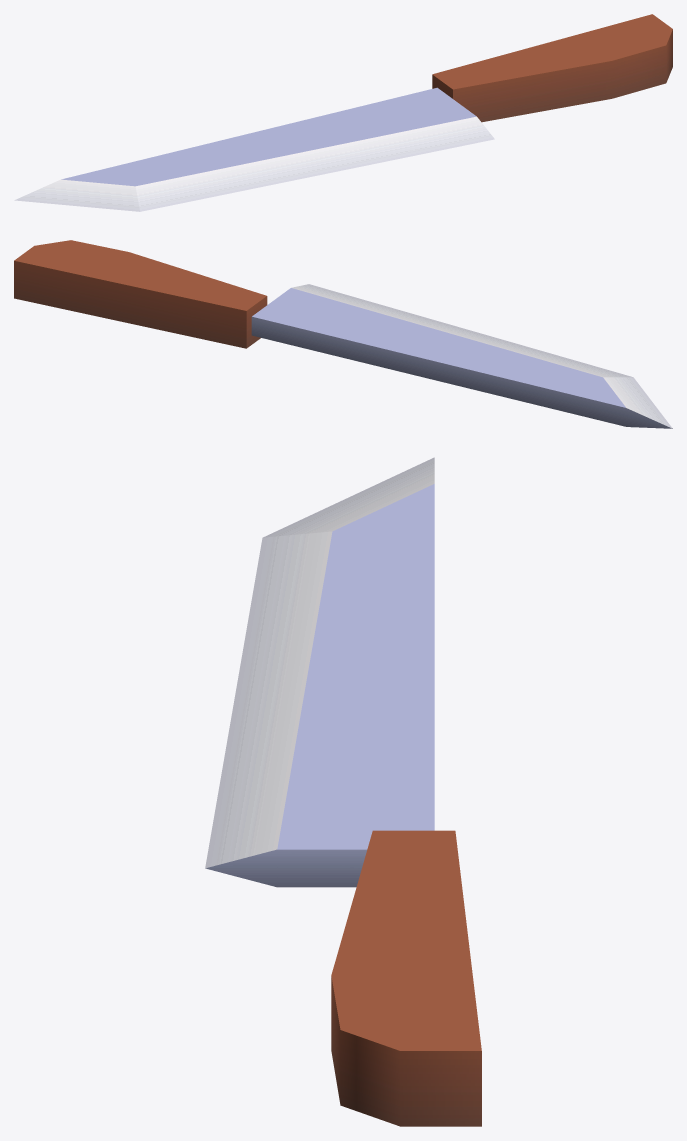
The model's file is cooking-knife.glb.
3 renders of one model, top to bottom at view 1: azimuth 30°, elevation 25°; view 2: azimuth 150°, elevation 25°; view 3: azimuth 270°, elevation 25°, orthographic. The views are drawn at different scales.
Visible parts, largest first — view 1: cooking-knife; view 2: cooking-knife; view 3: cooking-knife.
Part boxes in pixels (box(x1,y1,x2,y2)): cooking-knife: box(14, 14, 672, 211); cooking-knife: box(14, 240, 672, 428); cooking-knife: box(205, 457, 481, 1126).
Size of the model in its own units: 0.7162 by 0.04 by 0.1326.
1 material, 1 textured.
